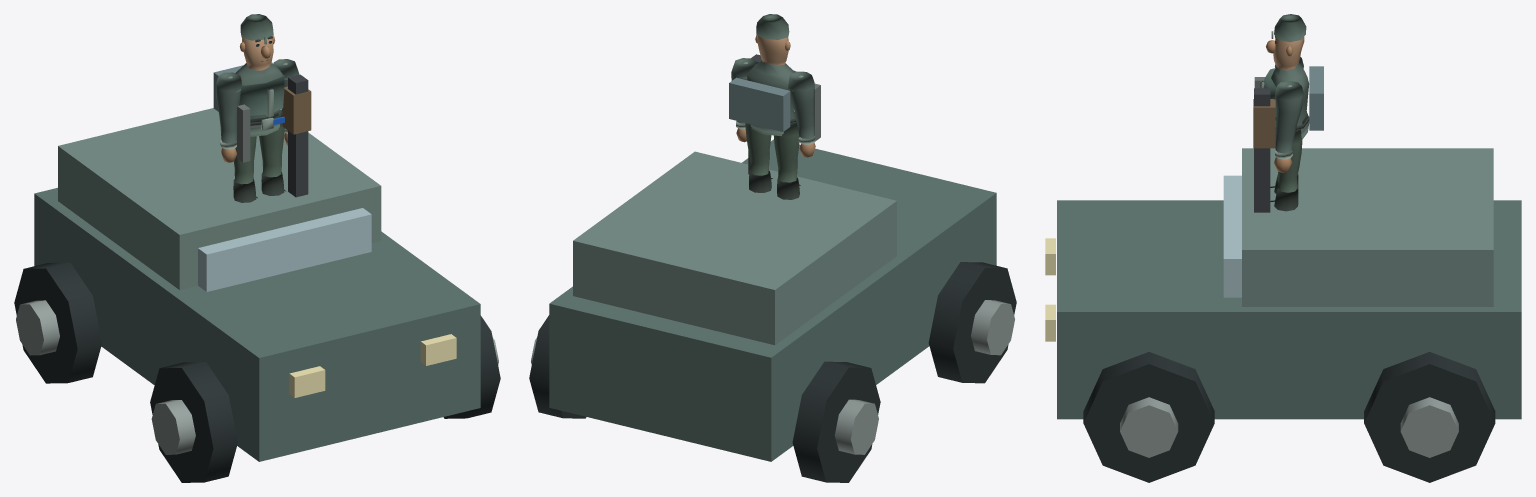
The model's file is motorized_team0.glb.
3 views of the same model, side by side, from view 1: azimuth 30°, elevation 25°; view 2: azimuth 150°, elevation 25°; view 3: azimuth 270°, elevation 25° (orthographic). The views are drawn at different scales.
Parts seen in each view (by area): view 1: part_11, part_12, part_13, part_15, part_17, part_0, part_16, part_18, part_2, part_21, part_5, part_1 (+6 smaller); view 2: part_11, part_12, part_15, part_17, part_10, part_16, part_18, part_2, part_19, part_7, part_1, part_8 (+2 smaller); view 3: part_11, part_12, part_21, part_19, part_22, part_20, part_13, part_4, part_1, part_5, part_0, part_8 (+2 smaller).
Boxes of the visible parts, left/top/right/bottom form: part_11: left=34, top=187, right=480, bottom=461; part_12: left=58, top=108, right=381, bottom=289; part_13: left=198, top=208, right=371, bottom=291; part_15: left=14, top=262, right=101, bottom=383; part_17: left=150, top=362, right=237, bottom=482; part_0: left=235, top=63, right=284, bottom=136; part_16: left=16, top=300, right=59, bottom=355; part_18: left=151, top=400, right=195, bottom=454; part_2: left=215, top=72, right=241, bottom=162; part_21: left=443, top=315, right=500, bottom=418; part_5: left=288, top=74, right=308, bottom=197; part_1: left=239, top=14, right=275, bottom=70; part_11: left=549, top=139, right=996, bottom=461; part_12: left=573, top=151, right=896, bottom=345; part_15: left=792, top=361, right=880, bottom=482; part_17: left=928, top=262, right=1016, bottom=383; part_10: left=729, top=77, right=790, bottom=131; part_16: left=834, top=399, right=878, bottom=454; part_18: left=971, top=300, right=1014, bottom=355; part_2: left=788, top=71, right=815, bottom=157; part_19: left=529, top=315, right=586, bottom=418; part_7: left=773, top=120, right=800, bottom=199; part_1: left=755, top=14, right=790, bottom=65; part_8: left=745, top=123, right=772, bottom=192; part_11: left=1057, top=200, right=1521, bottom=419; part_12: left=1242, top=148, right=1493, bottom=306; part_21: left=1083, top=352, right=1214, bottom=482; part_19: left=1364, top=352, right=1495, bottom=482; part_22: left=1120, top=397, right=1178, bottom=457; part_20: left=1400, top=397, right=1458, bottom=457; part_13: left=1223, top=175, right=1241, bottom=297; part_4: left=1274, top=81, right=1303, bottom=172; part_1: left=1266, top=14, right=1306, bottom=70; part_5: left=1254, top=88, right=1270, bottom=212; part_0: left=1260, top=63, right=1309, bottom=139; part_8: left=1270, top=129, right=1302, bottom=211.
Bounding box in the file's own units: 2.09 × 2.37 × 2.62.
